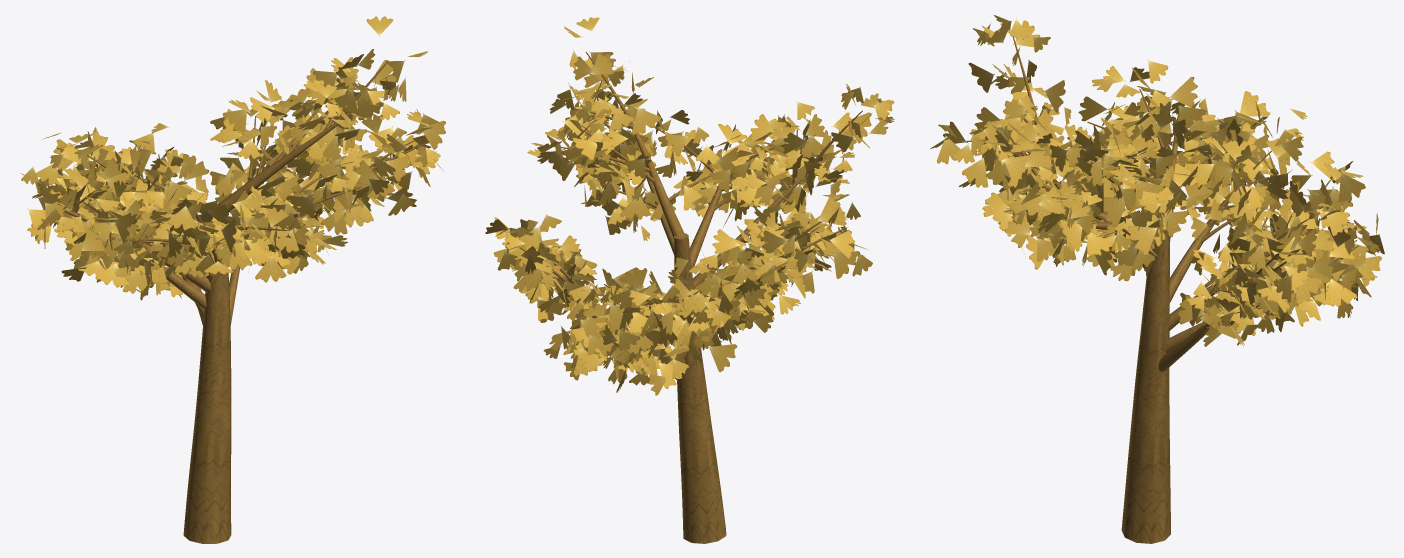
File: tree_broadleaf.glb
The picture shows the model from 3 angles, left to right: view 1: azimuth 30°, elevation 25°; view 2: azimuth 150°, elevation 25°; view 3: azimuth 270°, elevation 25°; orthographic projection. The views are drawn at different scales.
Visible parts, largest first — view 1: foliage, broadleaf; view 2: foliage, broadleaf; view 3: foliage, broadleaf.
Part boxes in pixels (bbox=[...]): foliage: bbox=[20, 16, 445, 300]; broadleaf: bbox=[58, 60, 429, 543]; foliage: bbox=[485, 17, 894, 395]; broadleaf: bbox=[519, 51, 862, 543]; foliage: bbox=[930, 15, 1384, 346]; broadleaf: bbox=[961, 36, 1358, 543].
Size of the model in its own units: 5.25 by 6.77 by 5.57.
2 materials, 2 textured.
